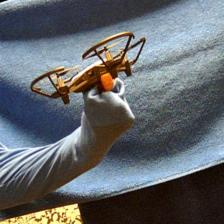drone: (30, 27, 147, 105)
